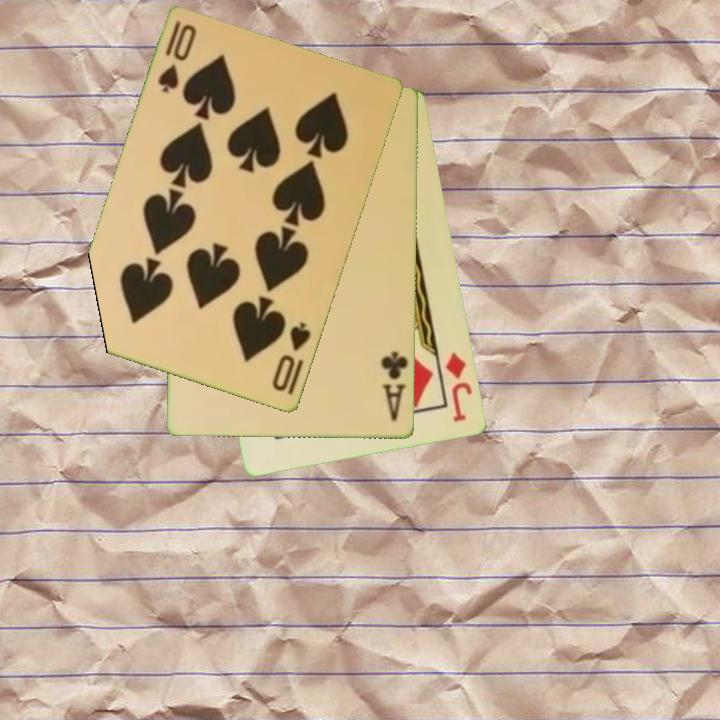10s: (154, 17, 200, 97), (269, 319, 314, 395)
Ac: (378, 348, 411, 425)
Jd: (442, 349, 476, 425)
